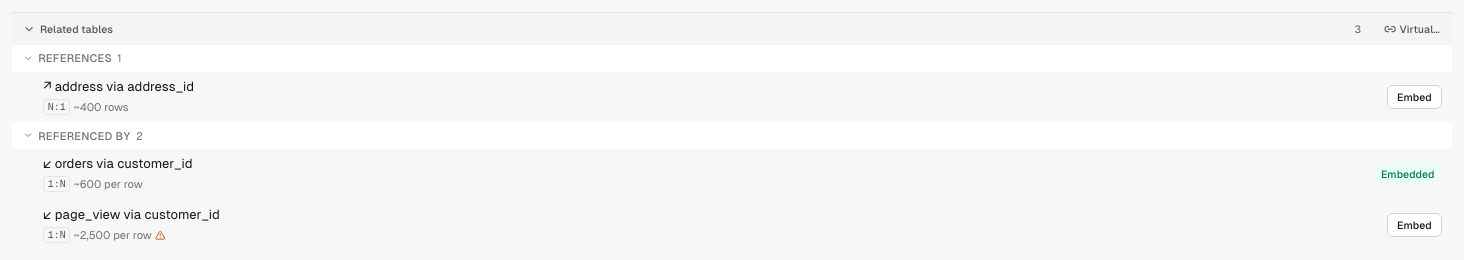
Test case: RelatedTree › AC1: lists parents and children with counts
Expected: the list item "↗ address via address_id N:1 ~400 rows Embed" is shown, [12, 72, 1452, 122]
Expected: the list item "↙ orders via customer_id 1:N ~600 per row Embedded" is shown, [12, 149, 1452, 200]
Click the button "Related tables 3".
click(77, 29)  # box [12, 13, 1372, 44]
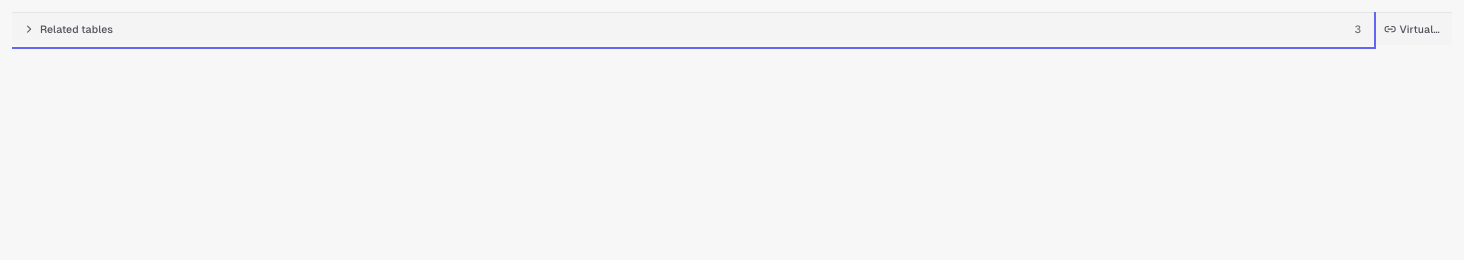
Result: no list items are shown
